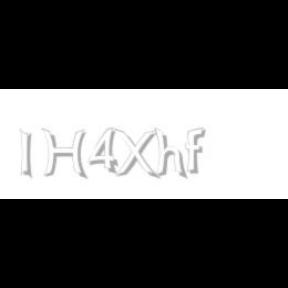4: (88, 128, 119, 174)
H: (41, 128, 87, 180)
I: (20, 128, 34, 180)
X: (113, 128, 157, 180)
f: (185, 128, 209, 174)
h: (154, 128, 189, 180)
